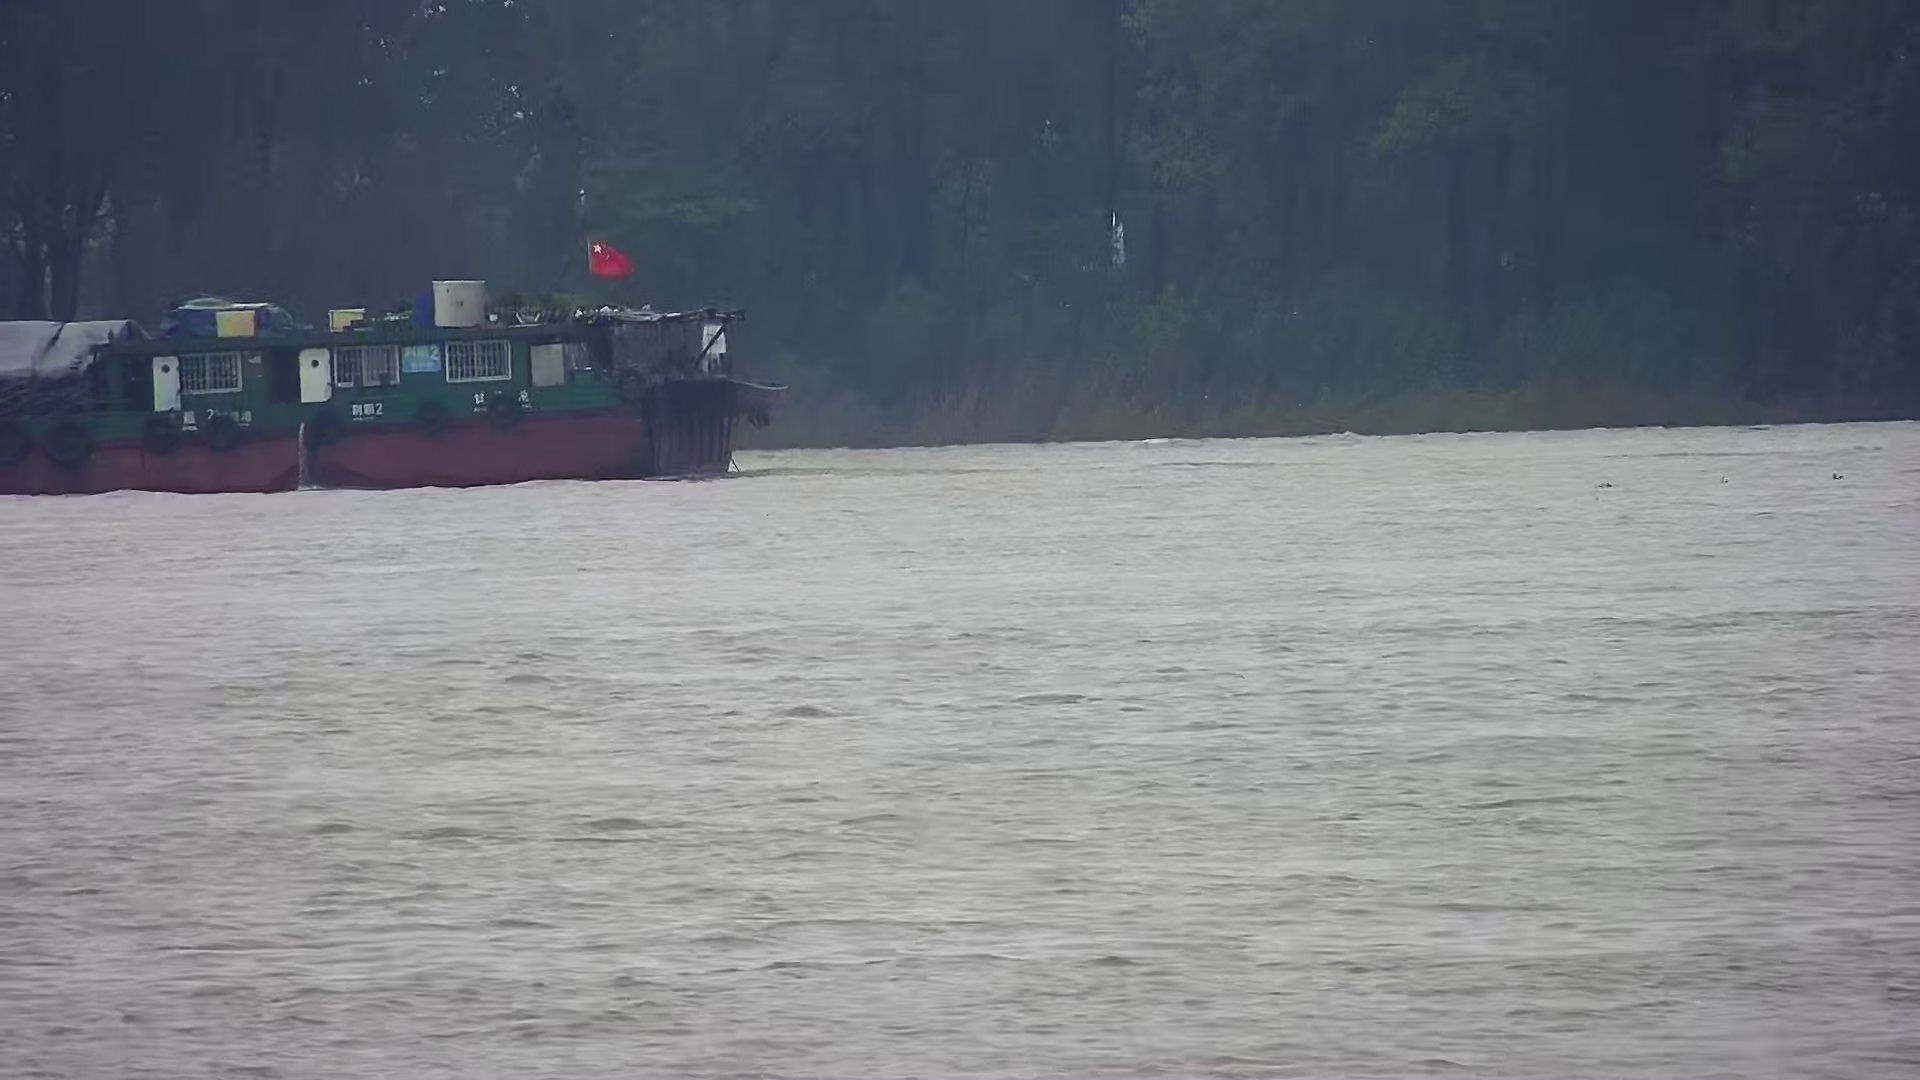ship: (1, 236, 787, 497)
